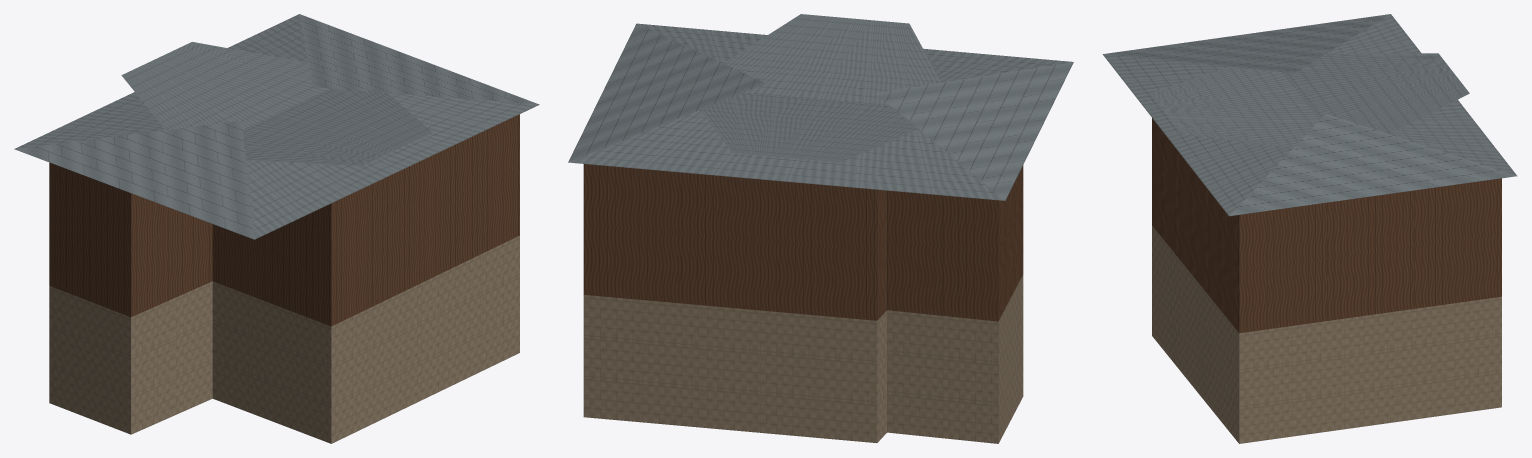
The model's file is bld_c18_29_380.gltf.
3 views of the same model, side by side, from view 1: azimuth 30°, elevation 25°; view 2: azimuth 150°, elevation 25°; view 3: azimuth 270°, elevation 25° (orthographic). The views are drawn at different scales.
Visible parts, largest first — view 1: bld_c18_29_380; view 2: bld_c18_29_380; view 3: bld_c18_29_380.
Part boxes in pixels (x1,y1,x2,y2): bld_c18_29_380: [14, 14, 539, 443]; bld_c18_29_380: [568, 14, 1073, 443]; bld_c18_29_380: [1102, 14, 1517, 443].
Size of the model in its own units: 20 by 11.8 by 17.33.
3 materials, 3 textured.
